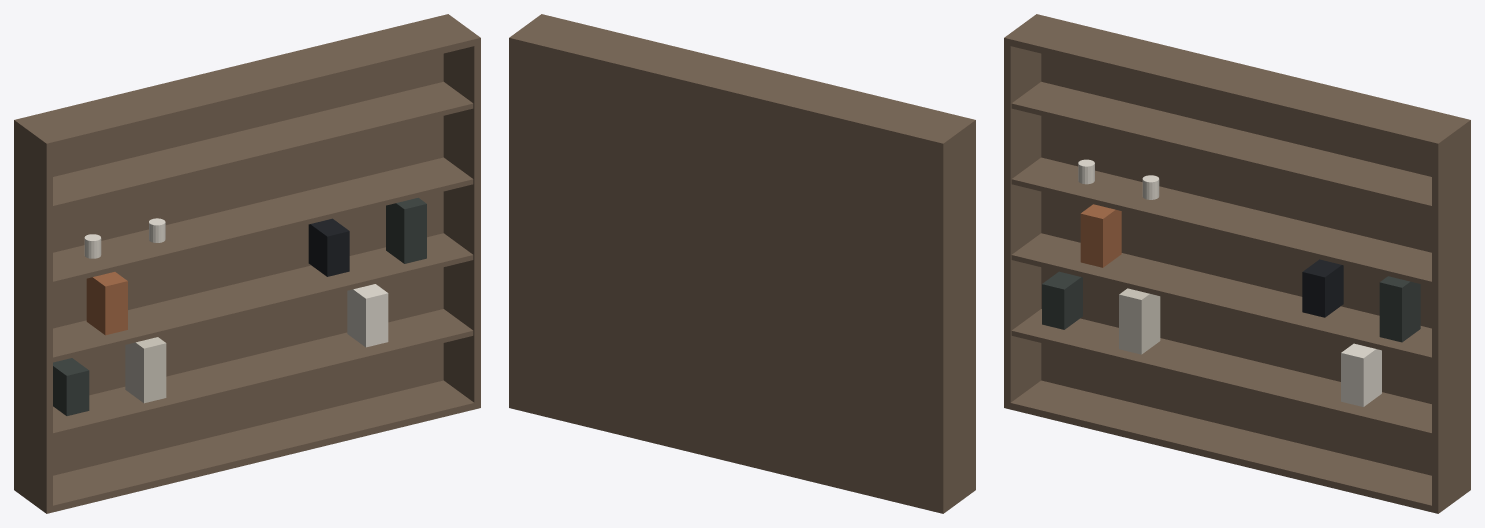
The picture shows the model from 3 angles, left to right: view 1: azimuth 30°, elevation 25°; view 2: azimuth 150°, elevation 25°; view 3: azimuth 330°, elevation 25°; orthographic projection.
Visible parts, largest first — view 1: bookshelf; view 2: bookshelf; view 3: bookshelf.
Part boxes in pixels (x1,y1,x2,y2): bookshelf: (14,14,480,513); bookshelf: (509,14,975,513); bookshelf: (1004,14,1470,513).
Size of the model in its own units: 2.7 by 2.2 by 0.35.
